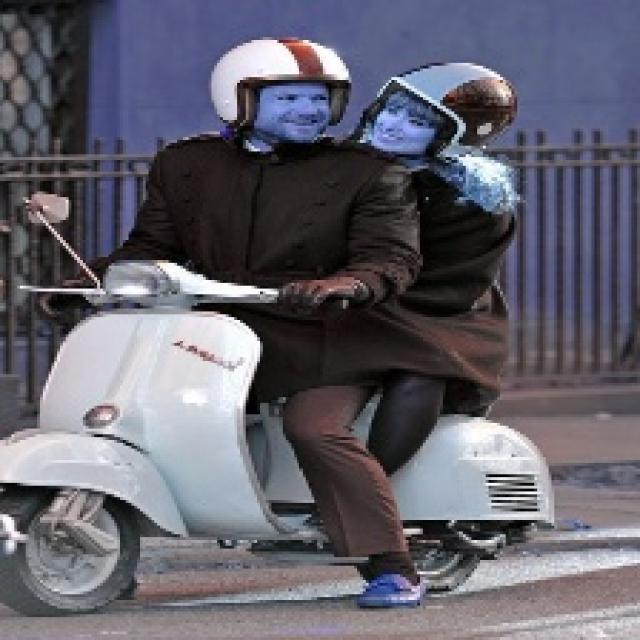motorcycle: (9, 276, 514, 634)
